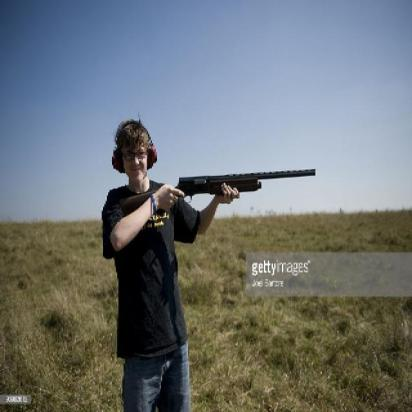Gun: (120, 163, 319, 207)
